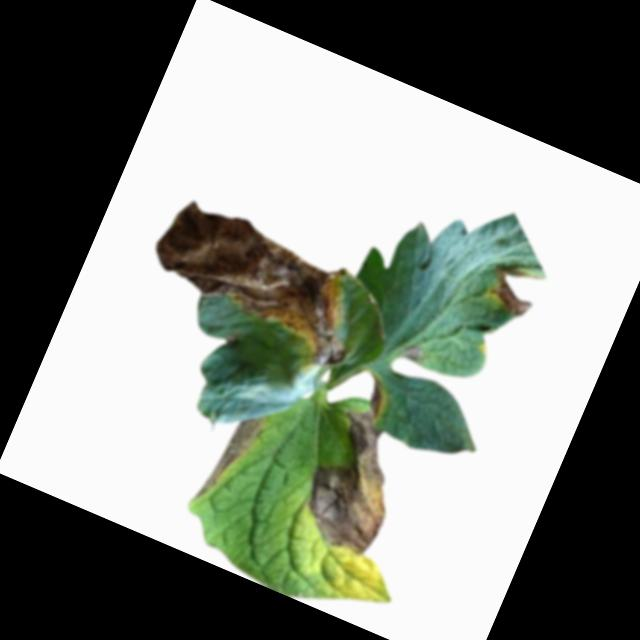Early_blight: (137, 191, 377, 374), (297, 406, 421, 559), (194, 403, 265, 509), (478, 255, 547, 320), (358, 372, 394, 417), (396, 341, 423, 364), (223, 329, 241, 349)
